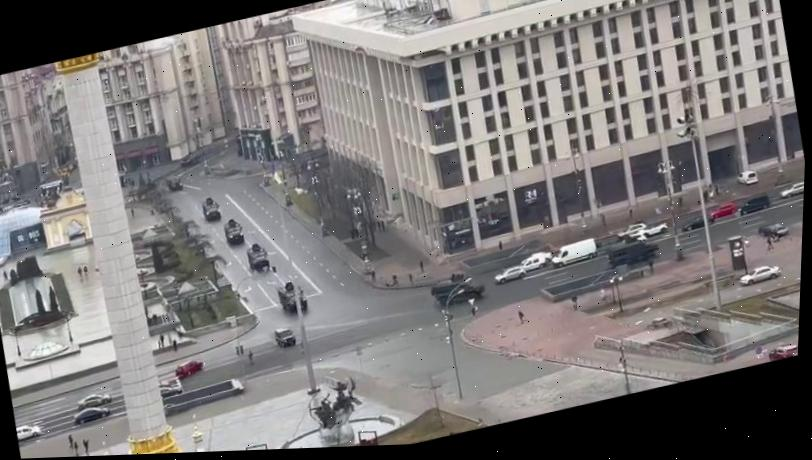armored_car: (427, 270, 487, 310), (604, 235, 660, 269), (274, 277, 308, 314), (244, 240, 271, 272), (221, 216, 244, 244), (199, 195, 221, 221)
car: (736, 261, 782, 287), (733, 191, 771, 217), (72, 402, 110, 425), (75, 389, 112, 412), (173, 355, 205, 379), (615, 219, 648, 242), (757, 218, 789, 241), (492, 263, 527, 284), (632, 219, 668, 239), (767, 338, 798, 361), (680, 211, 715, 231), (707, 200, 739, 219), (516, 253, 546, 273), (272, 325, 297, 349), (777, 179, 804, 199), (15, 421, 41, 441), (734, 167, 758, 187)
person: (81, 437, 91, 454), (71, 439, 81, 456), (569, 293, 579, 309), (65, 433, 75, 448), (515, 309, 525, 324), (246, 348, 254, 365), (765, 236, 774, 249), (75, 265, 83, 278), (368, 267, 376, 280), (81, 264, 88, 277), (1, 269, 8, 282)
